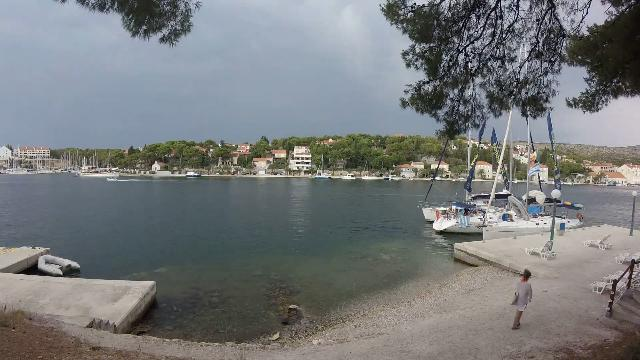speedboat: (104, 174, 125, 185)
